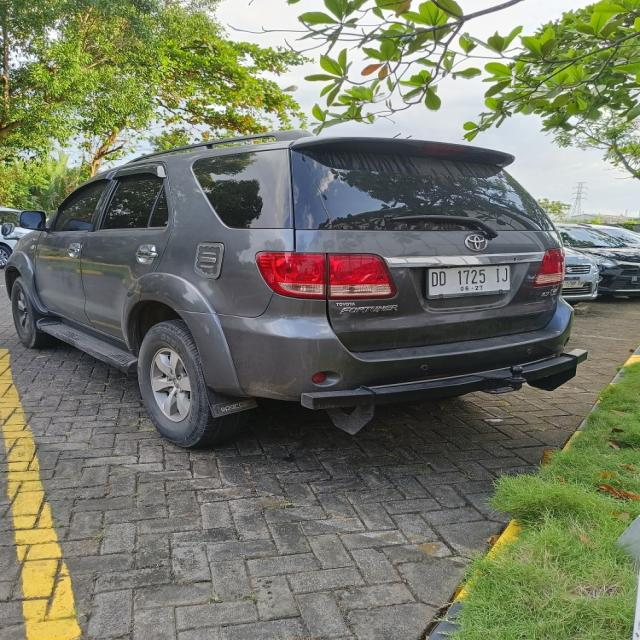plates: (422, 259, 516, 299)
